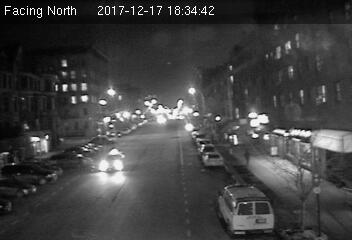car: (97, 148, 125, 174), (202, 150, 223, 167)
police: (215, 182, 275, 237)
